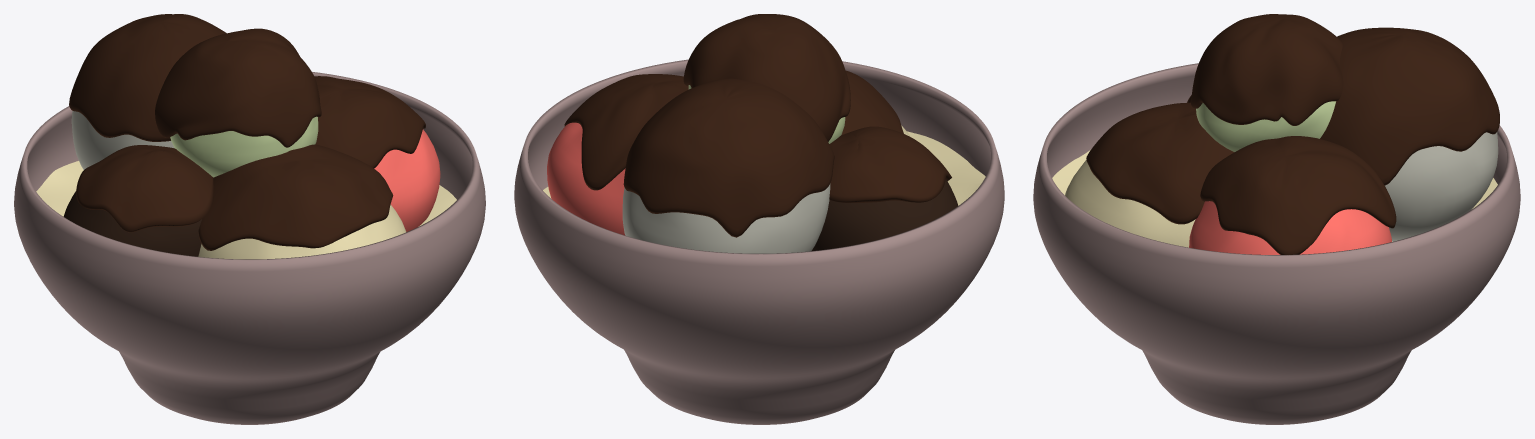
Rendered from iceCream.glb.
3 renders of one model, left to right at view 1: azimuth 30°, elevation 25°; view 2: azimuth 150°, elevation 25°; view 3: azimuth 270°, elevation 25°, orthographic. The views are drawn at different scales.
Parts seen in each view (by area): view 1: Sphere, Sphere.009, Sphere.001, Sphere.007, Sphere.010, Sphere.008, Sphere.005, Sphere.006, Sphere.004, Sphere.003, Sphere.002, Grid; view 2: Sphere, Sphere.007, Sphere.001, Sphere.002, Sphere.010, Sphere.008, Sphere.004, Sphere.005, Sphere.009, Grid; view 3: Sphere, Sphere.007, Sphere.008, Sphere.001, Sphere.009, Sphere.002, Sphere.005, Sphere.003, Sphere.006, Grid.
Part boxes in pixels (left/top/right/bottom): Sphere: left=14, top=72, right=485, bottom=424; Sphere.009: left=198, top=144, right=393, bottom=250; Sphere.001: left=155, top=28, right=321, bottom=147; Sphere.007: left=69, top=14, right=226, bottom=141; Sphere.010: left=76, top=145, right=213, bottom=232; Sphere.008: left=314, top=76, right=425, bottom=168; Sphere.005: left=374, top=129, right=440, bottom=231; Sphere.006: left=170, top=116, right=318, bottom=177; Sphere.004: left=63, top=191, right=201, bottom=256; Sphere.003: left=198, top=204, right=406, bottom=259; Sphere.002: left=71, top=111, right=174, bottom=169; Grid: left=36, top=161, right=456, bottom=226; Sphere: left=514, top=59, right=1004, bottom=424; Sphere.007: left=623, top=78, right=834, bottom=237; Sphere.001: left=683, top=14, right=850, bottom=141; Sphere.002: left=622, top=183, right=830, bottom=253; Sphere.010: left=829, top=126, right=951, bottom=202; Sphere.008: left=564, top=74, right=688, bottom=190; Sphere.004: left=811, top=179, right=958, bottom=251; Sphere.005: left=547, top=122, right=625, bottom=235; Sphere.009: left=841, top=70, right=903, bottom=134; Grid: left=543, top=131, right=985, bottom=205; Sphere: left=1033, top=63, right=1520, bottom=424; Sphere.007: left=1320, top=27, right=1499, bottom=185; Sphere.008: left=1200, top=136, right=1396, bottom=254; Sphere.001: left=1191, top=14, right=1343, bottom=125; Sphere.009: left=1086, top=102, right=1234, bottom=224; Sphere.002: left=1385, top=132, right=1498, bottom=241; Sphere.005: left=1189, top=201, right=1391, bottom=254; Sphere.003: left=1065, top=159, right=1195, bottom=247; Sphere.006: left=1196, top=101, right=1335, bottom=151; Grid: left=1052, top=150, right=1497, bottom=241.
Size of the model in its own units: 0.0866 by 0.0714 by 0.0866.
